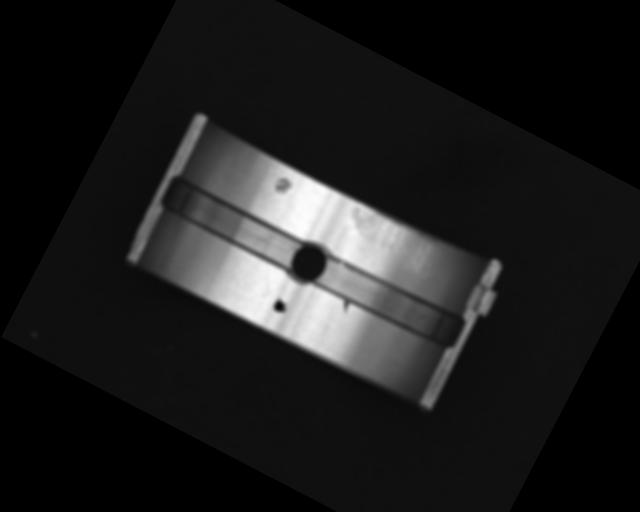blot: (270, 295, 291, 316)
bruise: (269, 173, 295, 200), (337, 298, 351, 314)
gap: (311, 247, 466, 354), (154, 171, 309, 276)
hole: (283, 234, 336, 291)
nick: (315, 312, 337, 345)
scratch: (340, 198, 444, 275)
